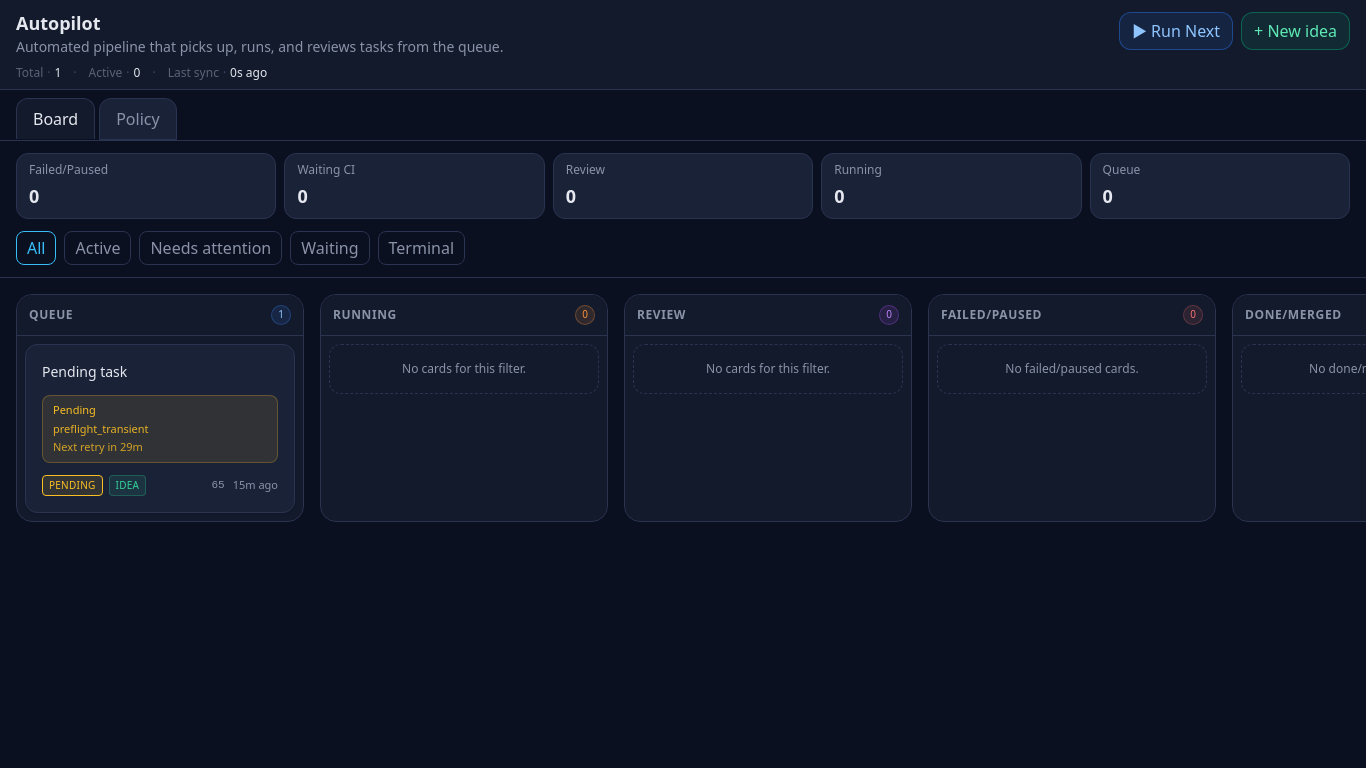
Test: PipelinePage › pending card still shows pending info in Queue lane
Note: Click to open drawer and verify pending info
Click the text "Pending task": coordinates (85, 371) x1=42 y1=362 x2=127 y2=380
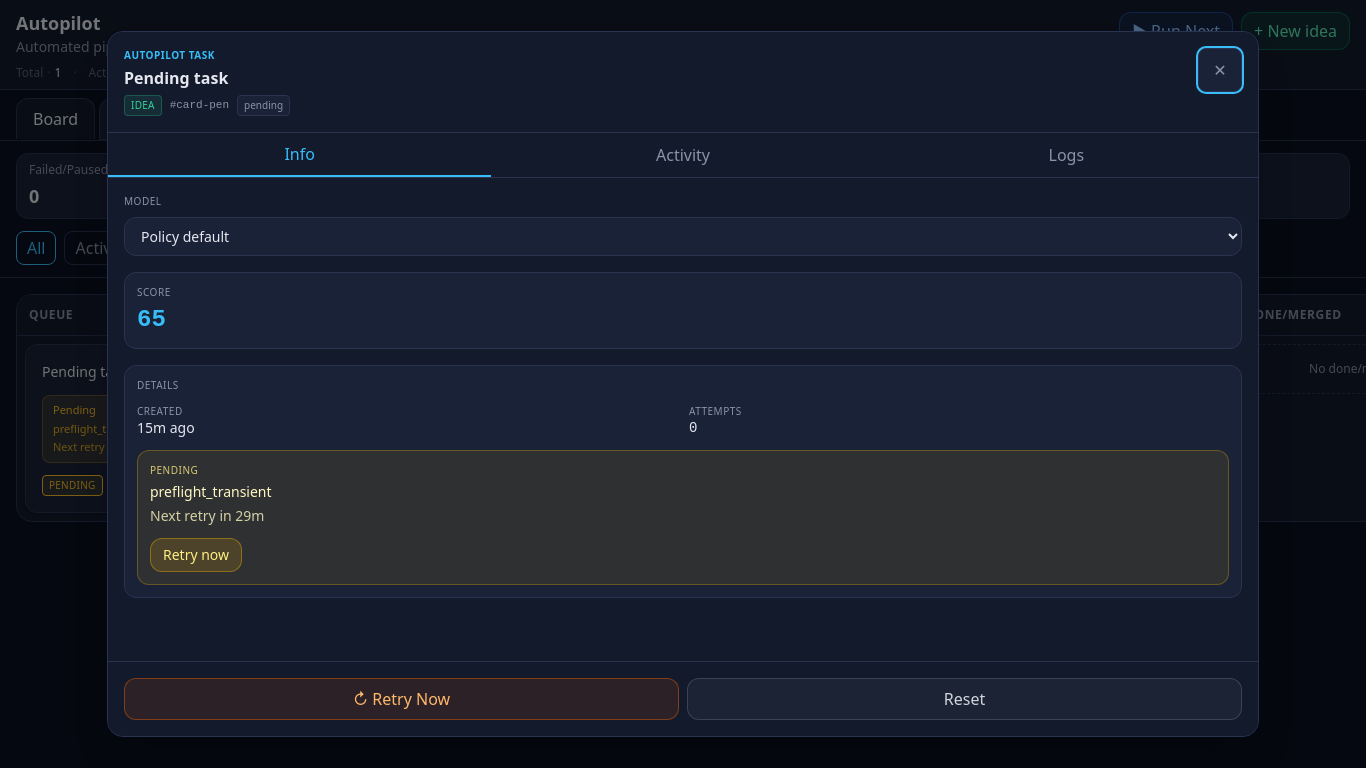
Expected: the dialog is shown
